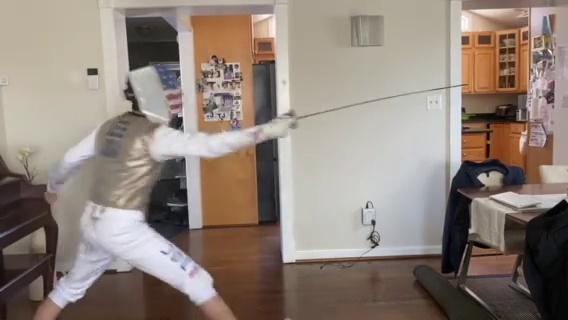blade-guard: (286, 110, 305, 130)
blade-tip: (430, 84, 470, 91)
fencing-blade: (279, 78, 470, 136)
